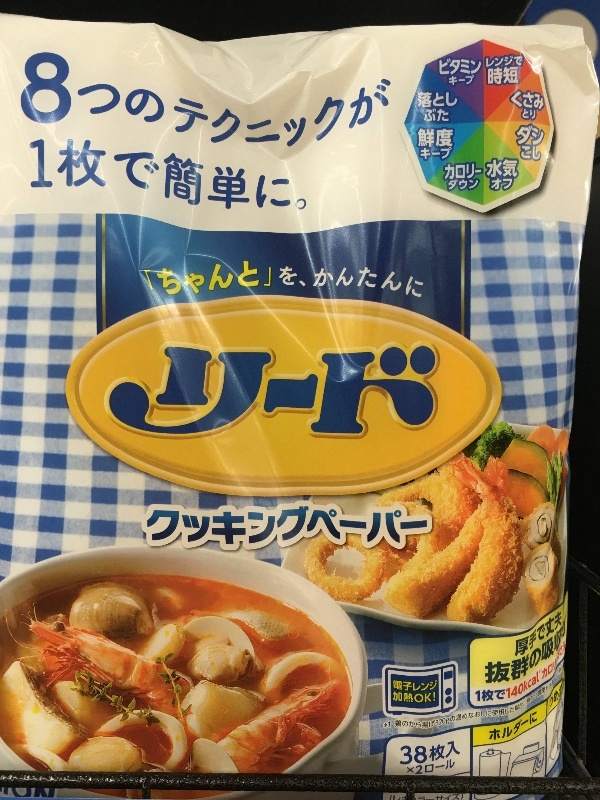text: (129, 336, 144, 450), (145, 336, 160, 450), (161, 336, 176, 450), (177, 336, 192, 450), (193, 336, 208, 450), (209, 336, 224, 450), (225, 336, 240, 450), (241, 336, 256, 450), (257, 336, 272, 450), (273, 336, 288, 450), (289, 336, 304, 450), (305, 336, 320, 450), (321, 336, 336, 450), (337, 336, 352, 450), (353, 336, 368, 450), (369, 336, 384, 450), (385, 336, 400, 450), (401, 336, 416, 450), (417, 336, 432, 450), (33, 132, 48, 217), (49, 132, 64, 217), (65, 132, 80, 217), (81, 132, 96, 217), (97, 132, 112, 217), (113, 132, 128, 217), (129, 132, 144, 217), (145, 132, 160, 217), (161, 132, 176, 217), (177, 132, 192, 217), (193, 132, 208, 217), (209, 132, 224, 217), (225, 132, 240, 217), (241, 132, 256, 217), (257, 132, 272, 217), (273, 132, 288, 217), (289, 132, 304, 217), (497, 617, 512, 695), (513, 617, 528, 695), (529, 617, 544, 695), (545, 617, 560, 695), (33, 51, 48, 127), (49, 51, 64, 127), (81, 77, 96, 150), (97, 77, 112, 150), (113, 77, 128, 150), (129, 77, 144, 150), (145, 77, 160, 150), (161, 77, 176, 150), (177, 77, 192, 150), (193, 77, 208, 150), (209, 77, 224, 150), (225, 77, 240, 150), (241, 77, 256, 150), (257, 77, 272, 150), (273, 77, 288, 150), (289, 77, 304, 150), (305, 77, 320, 150), (321, 77, 336, 150), (337, 77, 352, 150), (353, 77, 368, 150), (369, 77, 384, 150), (485, 617, 496, 695), (529, 609, 544, 664), (545, 609, 560, 664), (121, 336, 128, 450), (515, 609, 528, 664), (161, 503, 176, 549), (177, 503, 192, 549), (193, 503, 208, 549), (209, 503, 224, 549), (225, 503, 240, 549), (241, 503, 256, 549), (257, 503, 272, 549), (273, 503, 288, 549), (289, 503, 304, 549), (305, 503, 320, 549), (321, 503, 336, 549), (337, 503, 352, 549), (353, 503, 368, 549), (369, 503, 384, 549), (385, 503, 400, 549), (401, 503, 416, 549), (321, 265, 336, 306), (337, 265, 352, 306), (353, 265, 368, 306), (369, 265, 384, 306), (385, 265, 400, 306), (401, 265, 416, 306), (24, 51, 32, 127), (145, 260, 160, 299), (161, 260, 176, 299), (177, 260, 192, 299), (193, 260, 208, 299), (209, 260, 224, 299), (225, 260, 240, 299), (241, 260, 256, 299), (257, 260, 272, 299), (273, 260, 288, 299), (289, 260, 304, 299), (385, 77, 393, 150), (497, 709, 512, 746), (513, 709, 528, 746), (148, 503, 160, 549), (65, 51, 72, 127), (305, 132, 311, 217), (513, 669, 528, 703), (401, 701, 416, 734), (417, 701, 432, 734), (433, 701, 448, 734), (449, 701, 464, 734), (465, 701, 480, 734), (481, 701, 496, 734), (497, 701, 512, 734), (417, 503, 427, 549), (433, 336, 437, 450), (513, 701, 526, 734), (529, 679, 544, 707), (401, 739, 416, 766), (417, 739, 432, 766), (433, 739, 448, 766), (529, 88, 545, 113), (561, 617, 566, 695), (513, 88, 528, 113), (529, 669, 540, 703), (75, 77, 80, 150), (529, 124, 545, 146), (28, 132, 32, 217), (529, 709, 538, 746), (417, 265, 425, 306), (449, 739, 461, 766), (449, 57, 464, 78), (465, 57, 480, 78), (497, 158, 512, 179), (433, 127, 448, 147), (545, 658, 557, 682), (497, 67, 512, 86), (449, 162, 464, 181), (465, 162, 480, 181), (418, 127, 432, 147), (417, 758, 432, 776), (433, 758, 448, 776), (516, 124, 528, 146), (489, 709, 496, 746), (433, 91, 448, 108), (545, 679, 554, 707), (433, 107, 448, 123), (418, 91, 432, 108), (505, 669, 512, 703), (549, 688, 560, 709), (497, 177, 513, 191), (529, 144, 542, 161), (497, 55, 512, 69), (433, 147, 448, 161), (449, 178, 464, 192), (465, 178, 480, 192), (486, 158, 496, 179), (481, 688, 496, 702), (401, 679, 416, 692), (417, 679, 432, 692), (401, 691, 416, 703), (417, 691, 432, 703), (449, 91, 459, 108), (440, 57, 448, 78), (449, 75, 464, 86), (395, 701, 400, 734), (316, 265, 320, 306), (407, 758, 416, 776), (485, 55, 496, 69), (421, 147, 432, 161), (488, 67, 496, 86), (513, 55, 523, 69), (513, 158, 519, 179), (497, 688, 506, 702), (521, 144, 528, 161), (513, 67, 519, 86), (465, 75, 475, 86), (449, 758, 455, 776), (449, 127, 454, 147), (561, 639, 566, 659), (426, 107, 432, 123), (393, 679, 400, 692), (389, 721, 400, 729), (529, 108, 536, 120), (393, 691, 400, 703), (305, 260, 307, 299), (522, 108, 528, 120), (491, 177, 496, 191), (433, 679, 438, 692), (445, 162, 448, 181), (449, 147, 453, 161), (476, 688, 480, 702), (561, 609, 562, 664), (542, 658, 544, 682), (481, 162, 483, 181), (433, 691, 436, 703), (527, 679, 528, 707), (481, 57, 482, 78), (449, 107, 450, 123)
